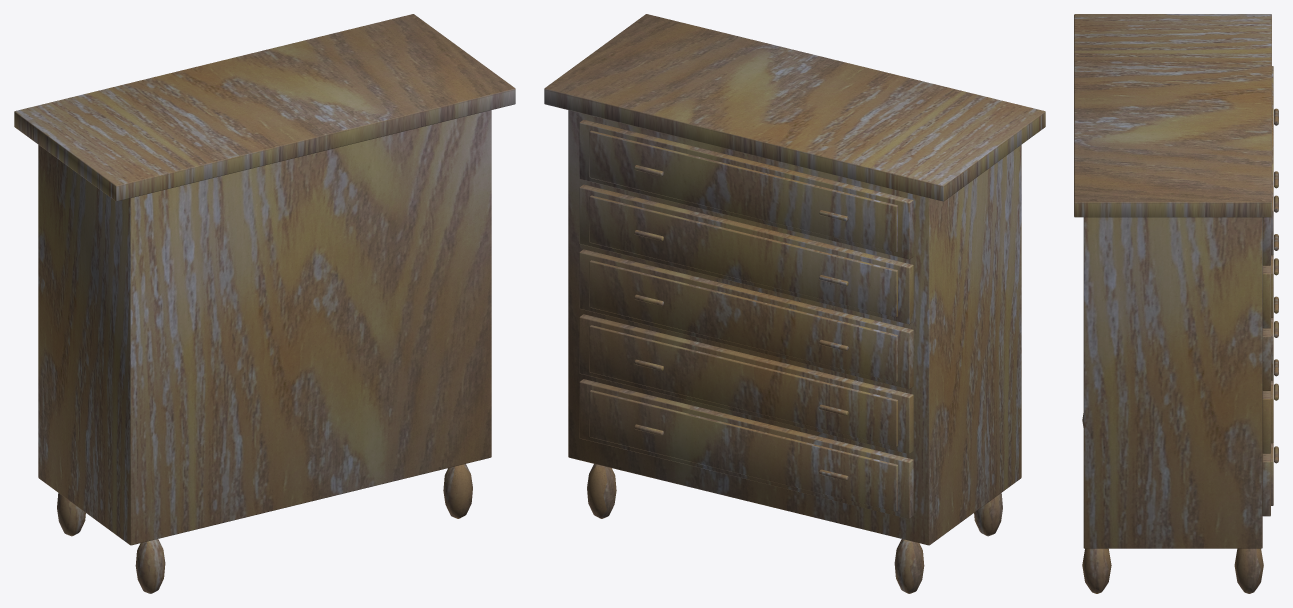
Rendered from Antique_Chest_13.fbx.
3 renders of one model, left to right at view 1: azimuth 30°, elevation 25°; view 2: azimuth 150°, elevation 25°; view 3: azimuth 270°, elevation 25°, orthographic. The views are drawn at different scales.
Parts seen in each view (by area): view 1: Antique_Chest; view 2: Antique_Chest; view 3: Antique_Chest.
Part boxes in pixels (x1,y1,x2,y2): Antique_Chest: [14, 14, 515, 593]; Antique_Chest: [544, 14, 1045, 593]; Antique_Chest: [1074, 14, 1278, 593].
Size of the model in its own units: 1.29 by 1.32 by 0.5918.
Materials: 1 (1 with a texture image).
